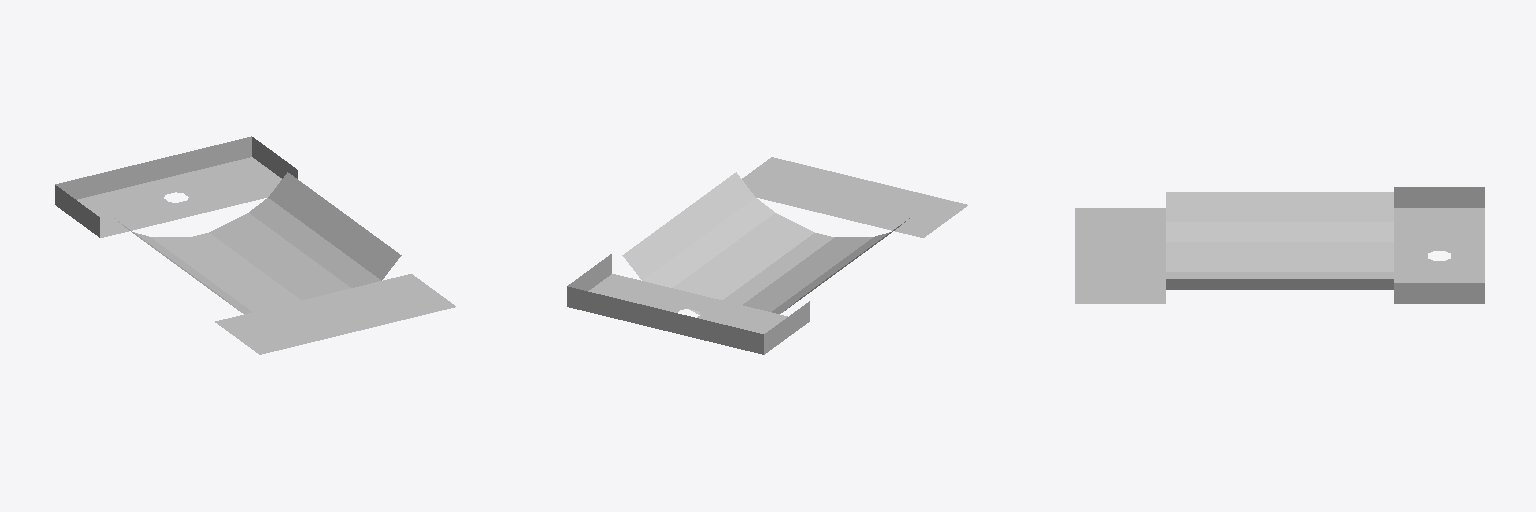
The model's file is level_08.obj.
3 views of the same model, side by side, from view 1: azimuth 30°, elevation 25°; view 2: azimuth 150°, elevation 25°; view 3: azimuth 270°, elevation 25° (orthographic).
Parts seen in each view (by area): view 1: Level; view 2: Level; view 3: Level.
Part boxes in pixels (bbox=[...]): Level: bbox=[55, 136, 455, 354]; Level: bbox=[567, 157, 967, 354]; Level: bbox=[1075, 187, 1484, 303].
Size of the model in its own units: 20 by 4 by 36.